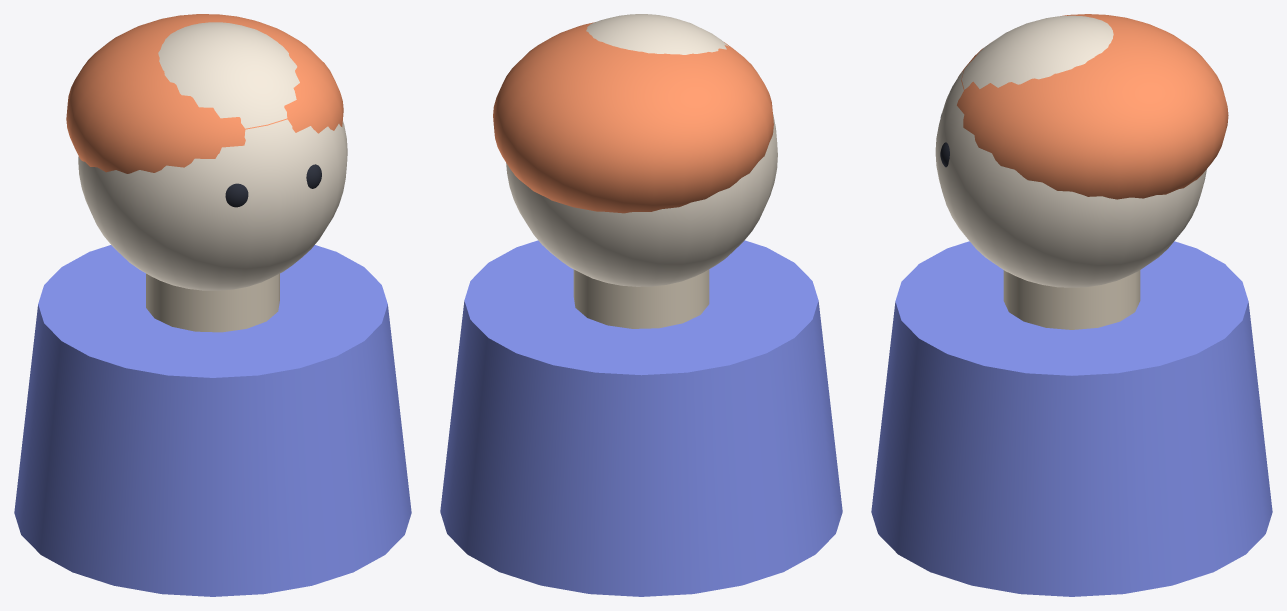
File: avatars.glb
The picture shows the model from 3 angles, left to right: view 1: azimuth 30°, elevation 25°; view 2: azimuth 150°, elevation 25°; view 3: azimuth 270°, elevation 25°; orthographic projection.
Size of the model in its own units: 1.02 by 1.35 by 1.02.
